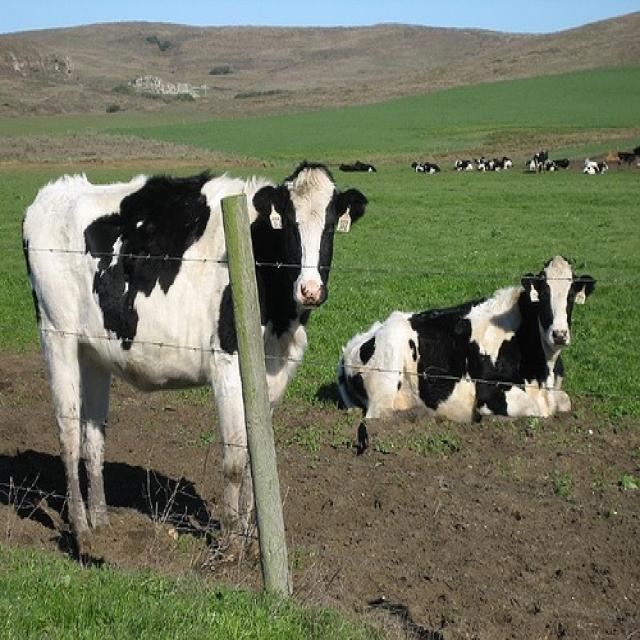cow: (22, 163, 369, 563), (339, 255, 597, 423)
